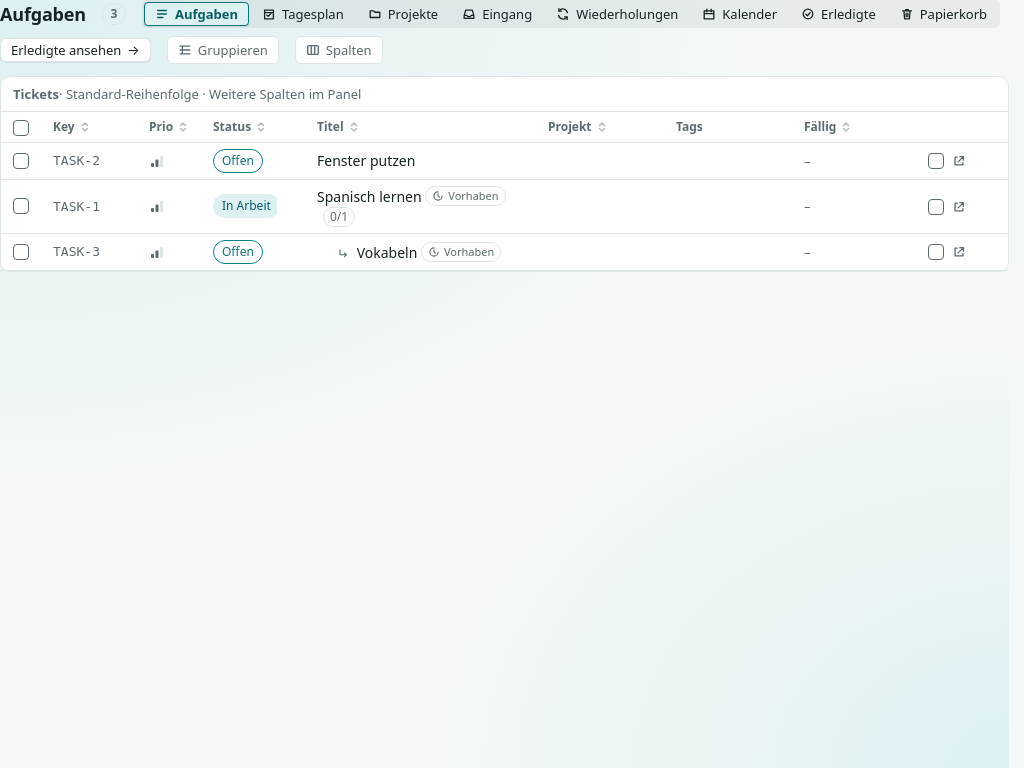
Scenario: "Aufgaben": check mark and status cell (VH-1) › asks about open sub-tasks only after "Abschließen"
Click the checkbox named "TASK-1 erledigt" at [936, 207], box [928,199,944,215]
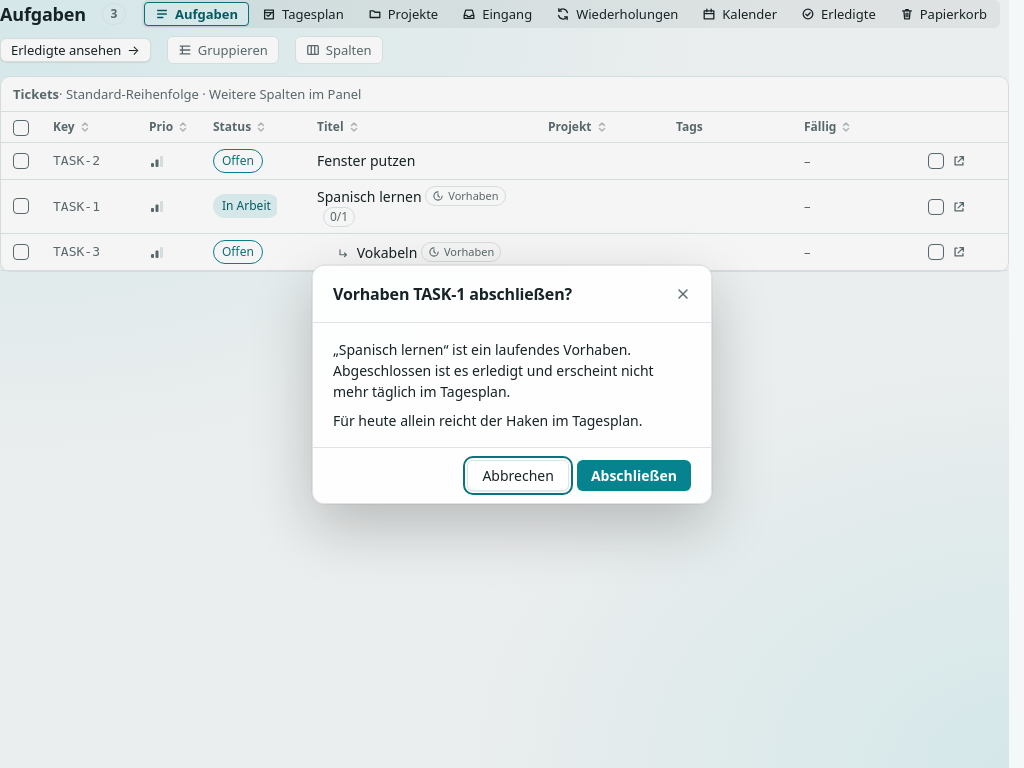
Expected: the dialog "TASK-1 erledigen?" is not shown
Click the button "Abschließen" at [634, 475], box [577,460,691,490]
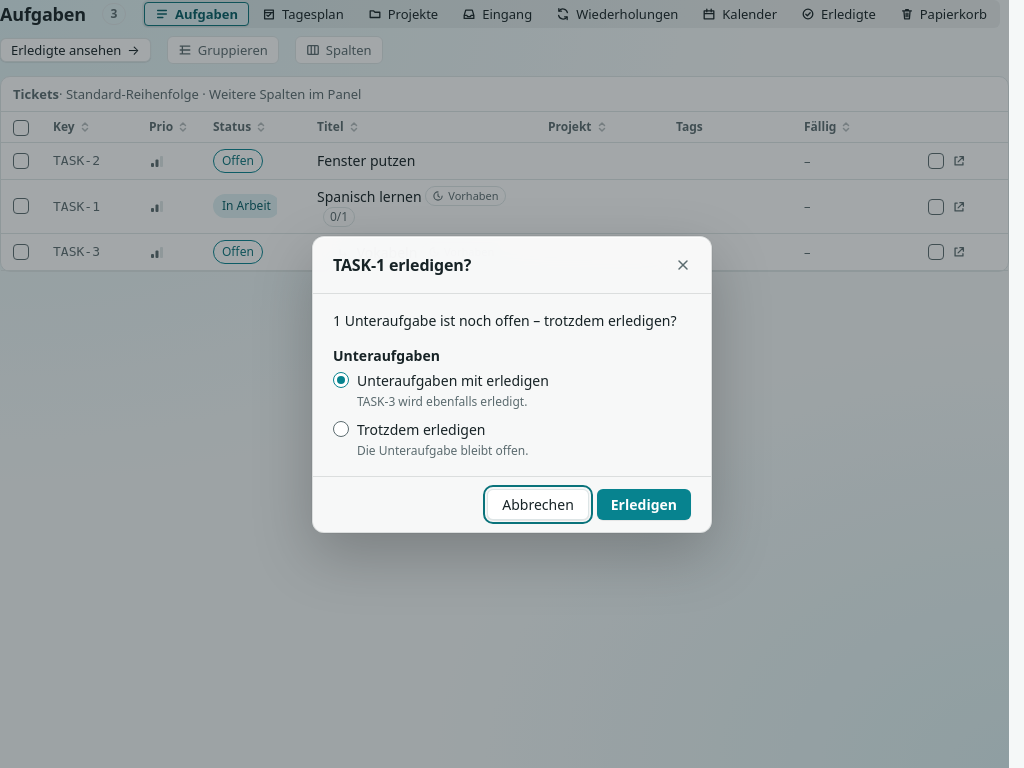
Expected: the dialog "TASK-1 erledigen?" is shown, [312,236,712,532]
